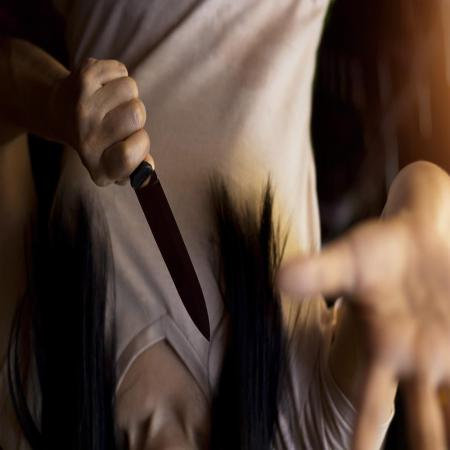long weapon: (84, 52, 214, 351)
